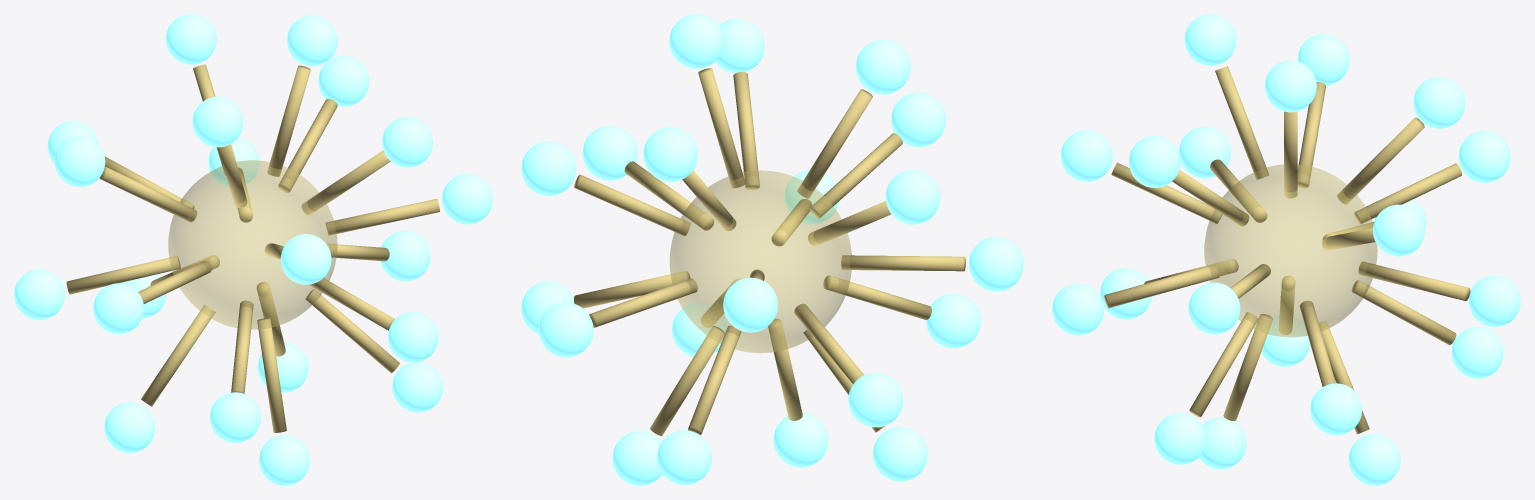
File: soap-micelle.glb
3 views of the same model, side by side, from view 1: azimuth 30°, elevation 25°; view 2: azimuth 150°, elevation 25°; view 3: azimuth 270°, elevation 25° (orthographic). The views are drawn at different scales.
Visible parts, largest first — view 1: soap-micelle-oil-core, soap-micelle-head-1, soap-micelle-head-17, soap-micelle-head-4, soap-micelle-head-19, soap-micelle-head-6, soap-micelle-head-8, soap-micelle-head-9, soap-micelle-head-11, soap-micelle-head-12, soap-micelle-head-2, soap-micelle-head-3 (+26 smaller); view 2: soap-micelle-oil-core, soap-micelle-head-1, soap-micelle-head-15, soap-micelle-head-5, soap-micelle-head-10, soap-micelle-head-0, soap-micelle-head-2, soap-micelle-head-7, soap-micelle-head-4, soap-micelle-head-9, soap-micelle-head-12, soap-micelle-head-17 (+27 smaller); view 3: soap-micelle-oil-core, soap-micelle-head-13, soap-micelle-head-0, soap-micelle-head-5, soap-micelle-head-8, soap-micelle-head-15, soap-micelle-head-7, soap-micelle-head-1, soap-micelle-head-11, soap-micelle-head-16, soap-micelle-head-18, soap-micelle-head-2 (+26 smaller).
Part boxes in pixels (x1,y1,x2,y2): soap-micelle-oil-core: [168, 160, 337, 329]; soap-micelle-head-1: [192, 96, 243, 147]; soap-micelle-head-17: [104, 402, 155, 453]; soap-micelle-head-4: [54, 136, 105, 186]; soap-micelle-head-19: [259, 435, 309, 485]; soap-micelle-head-6: [280, 234, 331, 284]; soap-micelle-head-8: [442, 173, 492, 224]; soap-micelle-head-9: [93, 283, 143, 334]; soap-micelle-head-11: [388, 312, 438, 362]; soap-micelle-head-12: [14, 269, 64, 320]; soap-micelle-head-2: [166, 14, 216, 64]; soap-micelle-head-3: [382, 117, 432, 167]; soap-micelle-oil-core: [669, 170, 851, 353]; soap-micelle-head-1: [855, 39, 910, 94]; soap-micelle-head-15: [657, 430, 711, 485]; soap-micelle-head-5: [521, 141, 576, 195]; soap-micelle-head-10: [538, 302, 593, 357]; soap-micelle-head-0: [669, 14, 723, 68]; soap-micelle-head-2: [643, 127, 697, 181]; soap-micelle-head-7: [723, 277, 777, 332]; soap-micelle-head-4: [885, 170, 940, 224]; soap-micelle-head-9: [969, 237, 1023, 291]; soap-micelle-head-12: [848, 372, 902, 427]; soap-micelle-head-17: [873, 427, 927, 481]; soap-micelle-oil-core: [1204, 164, 1377, 337]; soap-micelle-head-13: [1310, 383, 1362, 435]; soap-micelle-head-0: [1265, 60, 1316, 112]; soap-micelle-head-5: [1373, 204, 1424, 256]; soap-micelle-head-8: [1188, 282, 1240, 334]; soap-micelle-head-15: [1451, 327, 1503, 378]; soap-micelle-head-7: [1458, 131, 1510, 182]; soap-micelle-head-1: [1184, 14, 1236, 65]; soap-micelle-head-11: [1052, 283, 1103, 335]; soap-micelle-head-16: [1154, 413, 1206, 464]; soap-micelle-head-18: [1348, 434, 1400, 485]; soap-micelle-head-2: [1413, 77, 1465, 128].
Bounding box in the file's own units: 0.1083 × 0.1108 × 0.1081.
